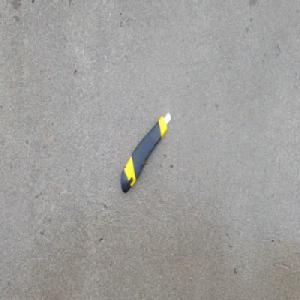Cutter: (120, 109, 173, 195)
